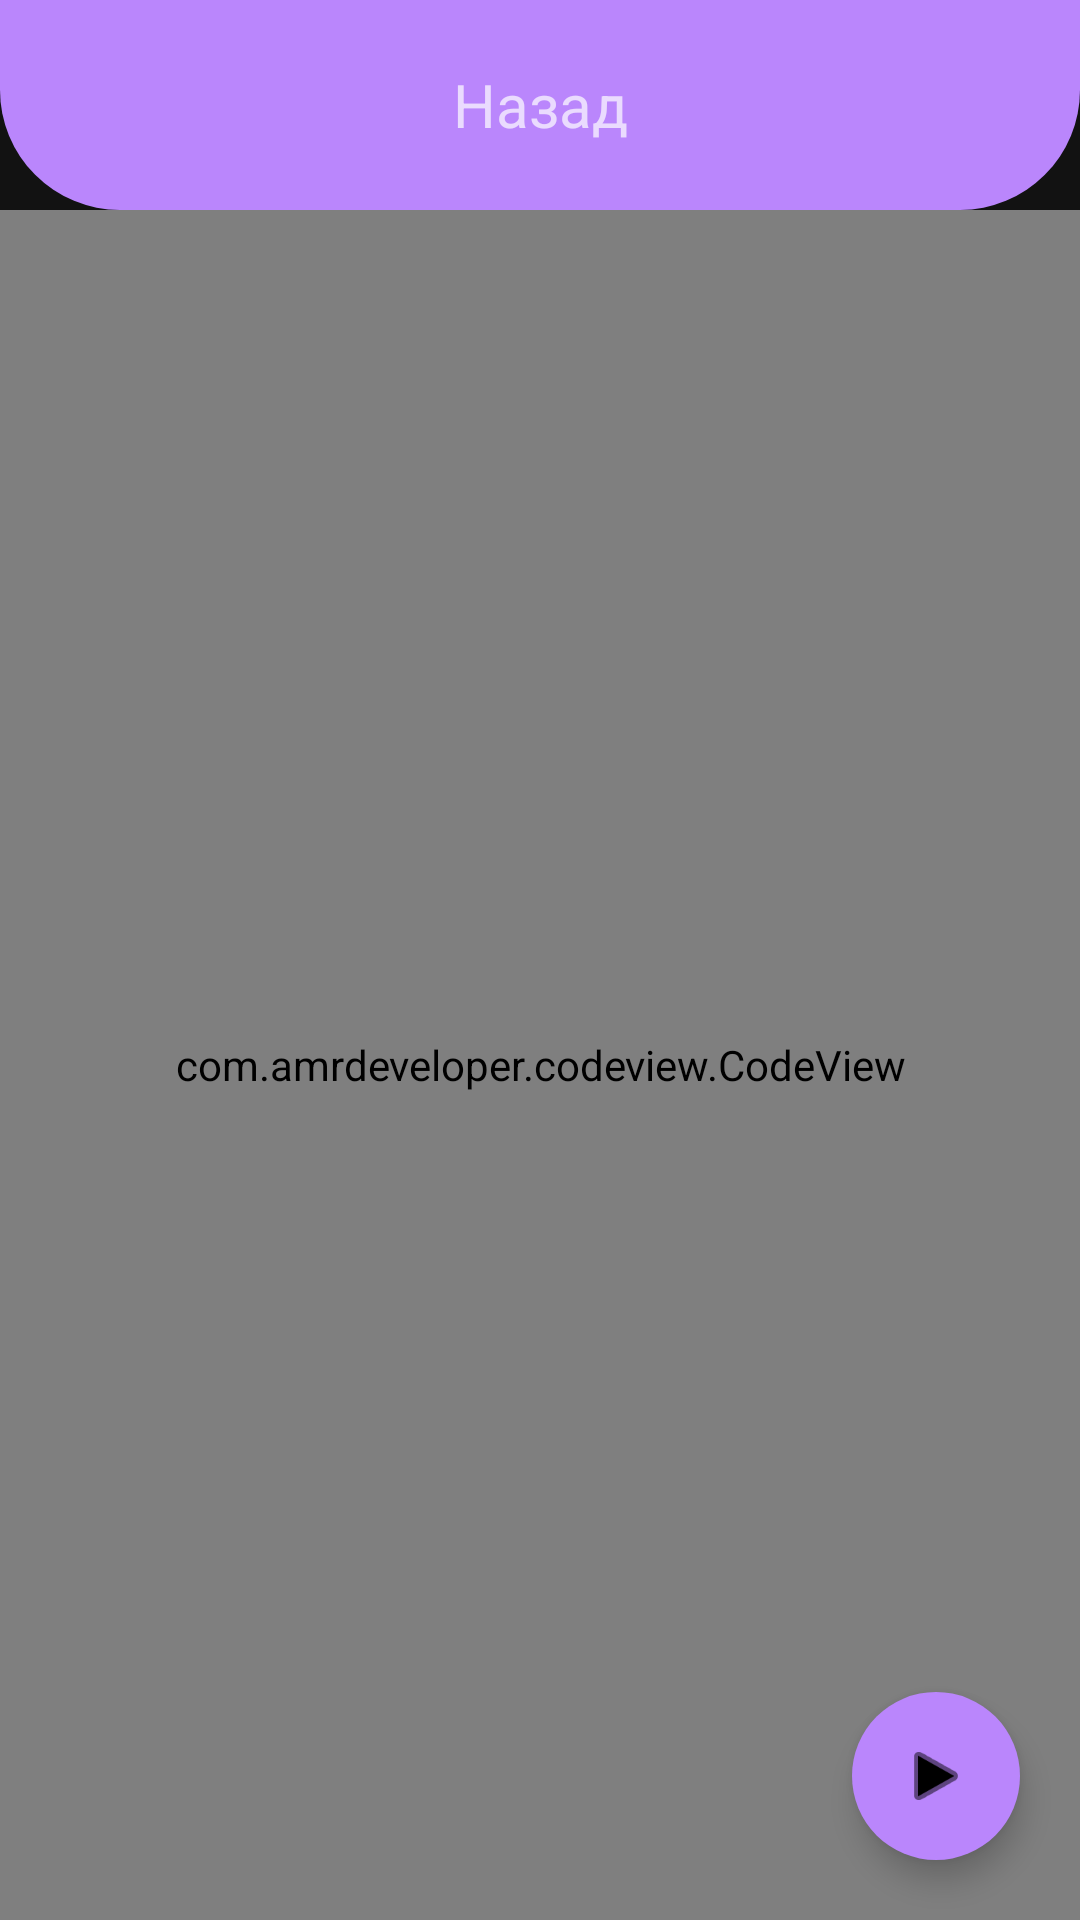

Icon bounding boxes for this 1080*1920 phone screenshot, format detection(x1, y1, x2, y2):
Run code: detection(852, 1692, 1020, 1860)
